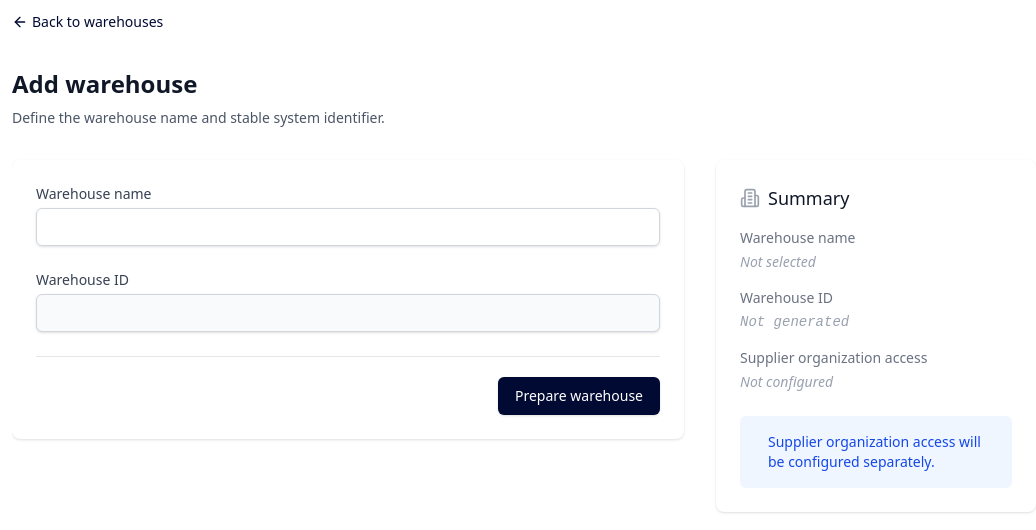
Test: AddWarehousePage tests › 6. updates the ID field and summary from the live name value;
The image size is (1036, 530).
Type "  Test Warehouse  " into the field labelled "Warehouse name" at (348, 227), box [36,208,660,246]
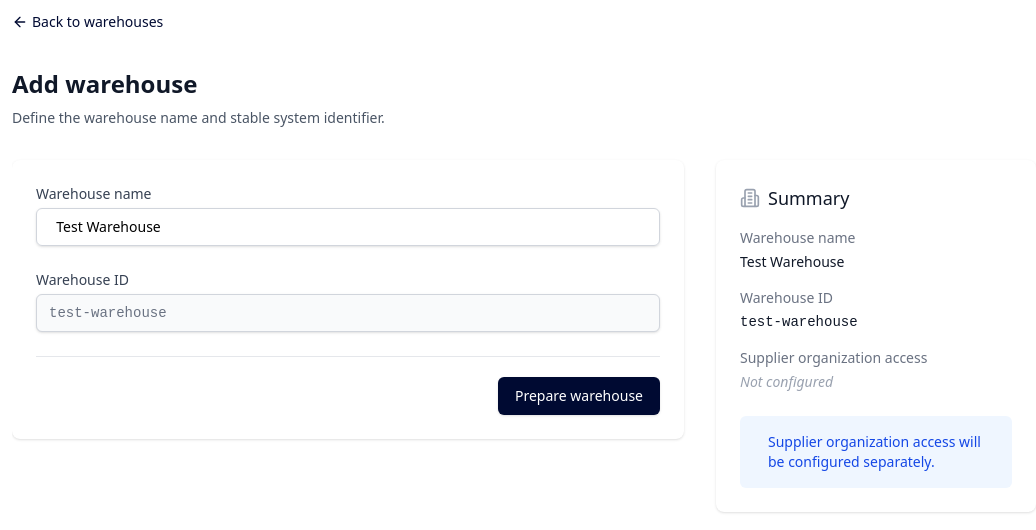
Now the field labelled "Warehouse ID" holds "test-warehouse", box [36,294,660,332]
Now the text "Test Warehouse" is shown, box [740,252,844,271]
Now the text "test-warehouse" is shown, box [740,314,858,330]
